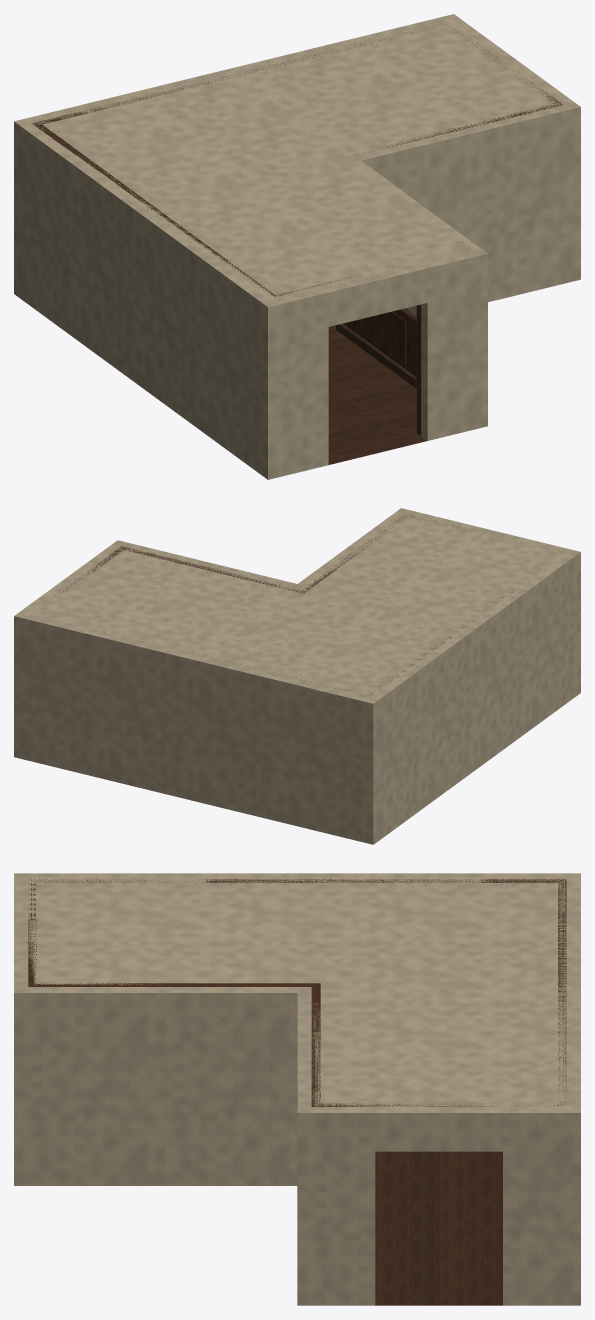
The model's file is CornerHall.fbx.
3 renders of one model, top to bottom at view 1: azimuth 30°, elevation 25°; view 2: azimuth 150°, elevation 25°; view 3: azimuth 270°, elevation 25°, orthographic. The views are drawn at different scales.
Parts seen in each view (by area): view 1: SM_CornerHall.001; view 2: SM_CornerHall.001; view 3: SM_CornerHall.001.
Part boxes in pixels (<box>): SM_CornerHall.001: <box>14,14,580,479</box>; SM_CornerHall.001: <box>14,508,580,844</box>; SM_CornerHall.001: <box>14,873,580,1305</box>.
Bounding box in the file's own units: 800 × 300 × 800.
Materials: 3 (3 with a texture image).
